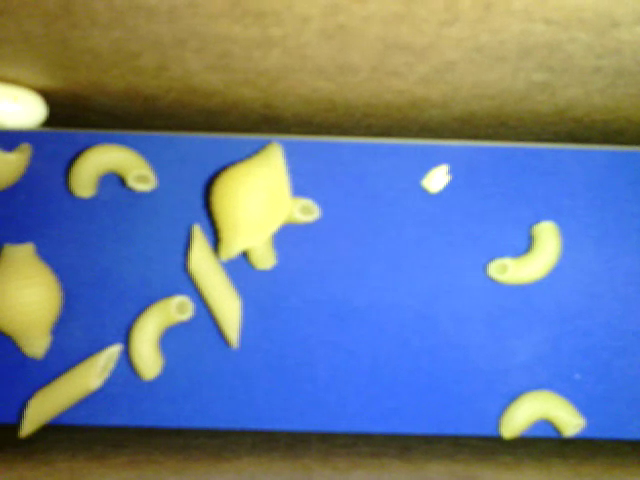elbow: (129, 293, 195, 381), (244, 198, 324, 270), (67, 143, 157, 199), (486, 220, 562, 283), (498, 388, 586, 441)
penne: (19, 342, 123, 436), (186, 223, 244, 350)
shell: (210, 141, 291, 263), (1, 242, 67, 359)
